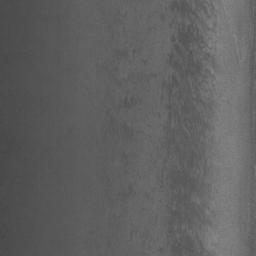Silk spot: (96, 0, 225, 256), (105, 176, 136, 206), (104, 151, 130, 174), (108, 11, 126, 40), (231, 16, 241, 64)
